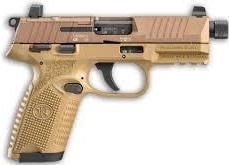gun: (1, 1, 229, 165)
